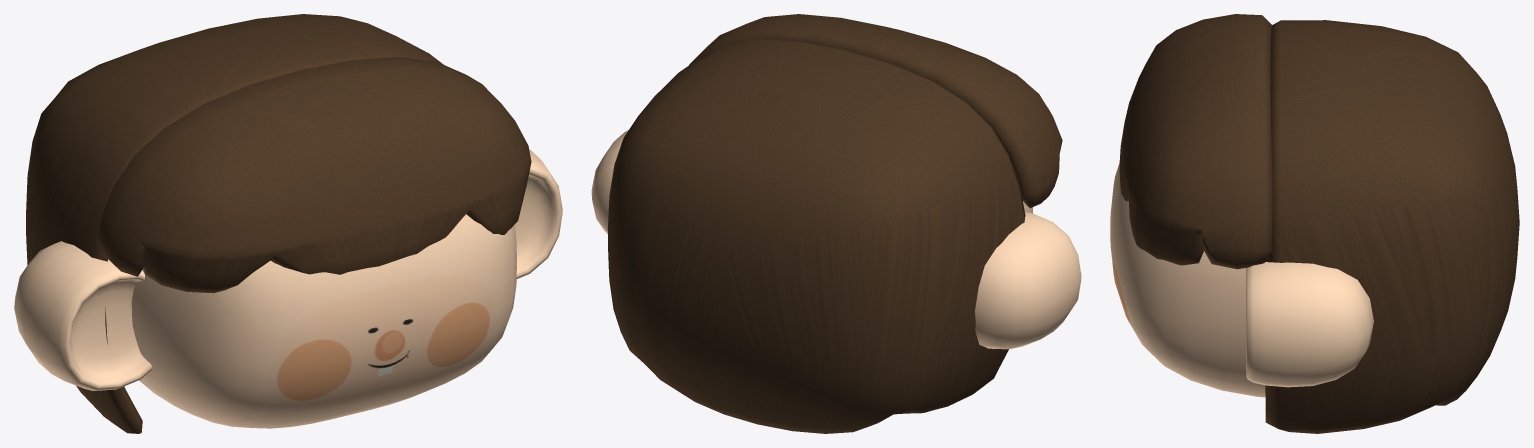
The model's file is head.fbx.
3 renders of one model, left to right at view 1: azimuth 30°, elevation 25°; view 2: azimuth 150°, elevation 25°; view 3: azimuth 270°, elevation 25°, orthographic. The views are drawn at different scales.
Parts seen in each view (by area): view 1: chonkyguy_head; view 2: chonkyguy_head; view 3: chonkyguy_head.
Part boxes in pixels (left/top/right/bottom): chonkyguy_head: left=14, top=14, right=562, bottom=433; chonkyguy_head: left=591, top=14, right=1081, bottom=433; chonkyguy_head: left=1110, top=14, right=1519, bottom=433.
Bounding box in the file's own units: 118 × 77.17 × 90.
Materials: 3 (3 with a texture image).
